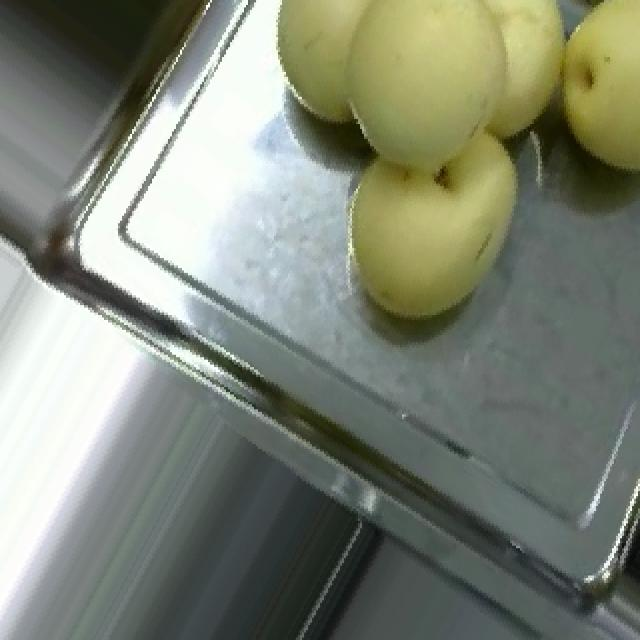Fruit: (318, 87, 550, 347), (536, 0, 640, 196)
